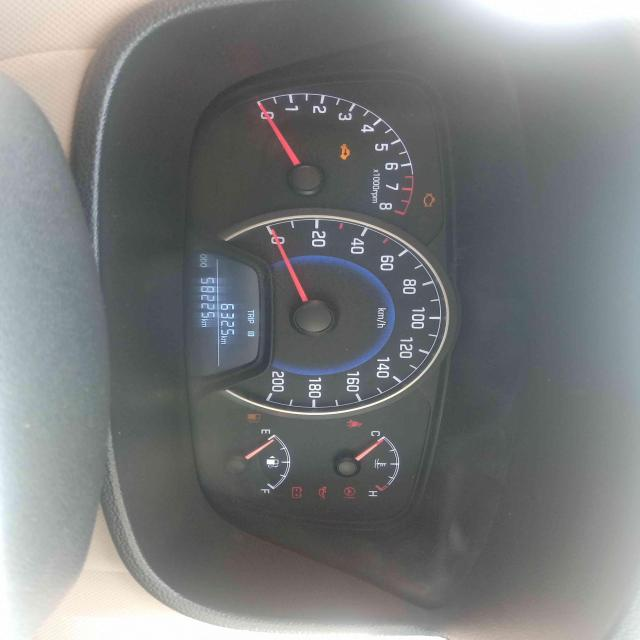Charging System Issue: (291, 487, 303, 499)
Check Engine: (422, 193, 436, 207)
Low Engine Oil Warning Light: (318, 486, 328, 501)
